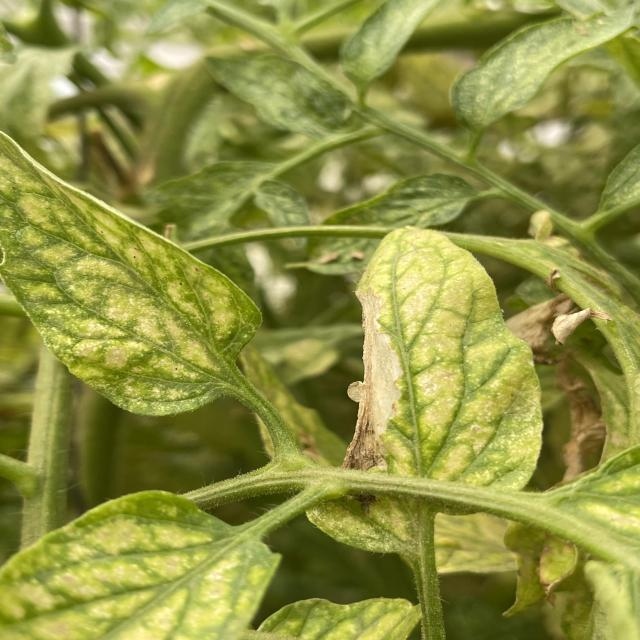Tuta absoluta: (341, 287, 409, 472)
